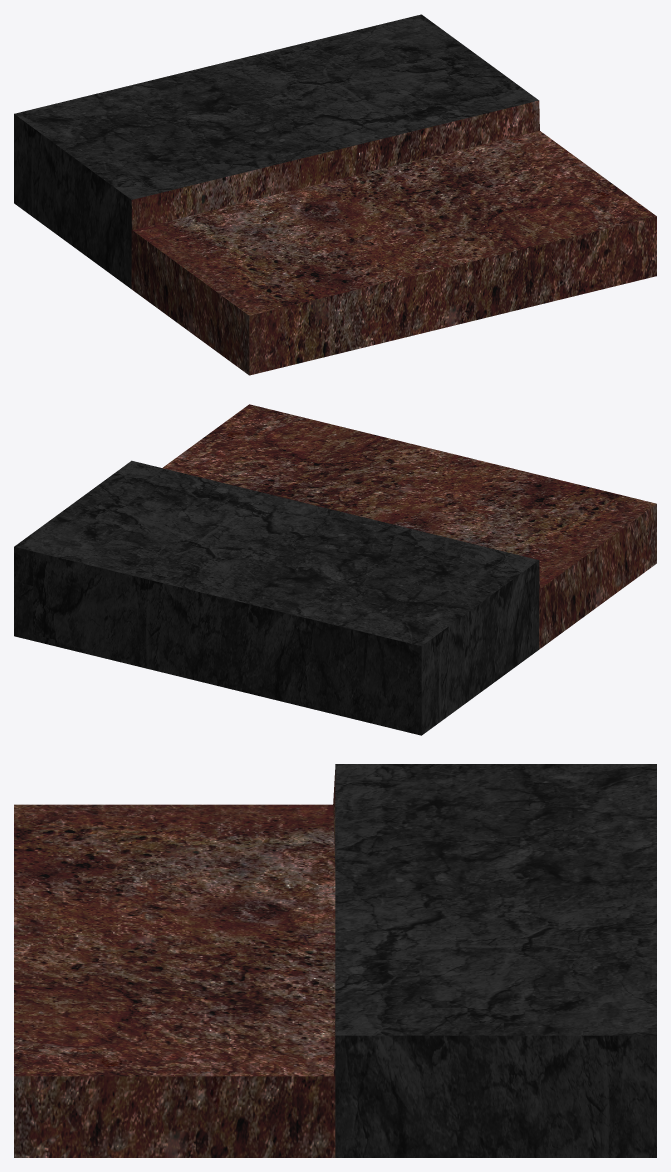
The model's file is EnemyPath42.fbx.
3 renders of one model, top to bottom at view 1: azimuth 30°, elevation 25°; view 2: azimuth 150°, elevation 25°; view 3: azimuth 270°, elevation 25°, orthographic. The views are drawn at different scales.
Parts seen in each view (by area): view 1: EnemyPath42; view 2: EnemyPath42; view 3: EnemyPath42.
Part boxes in pixels (box(x1,y1,x2,y2)): EnemyPath42: box(14, 14, 656, 375); EnemyPath42: box(14, 404, 656, 735); EnemyPath42: box(14, 764, 656, 1157).
Bounding box in the file's own units: 100 × 20.97 × 100.
Materials: 2 (2 with a texture image).
